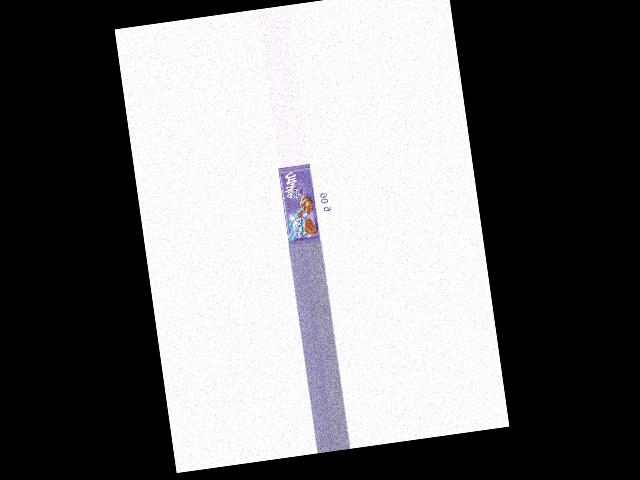chocolate: (278, 165, 320, 246)
